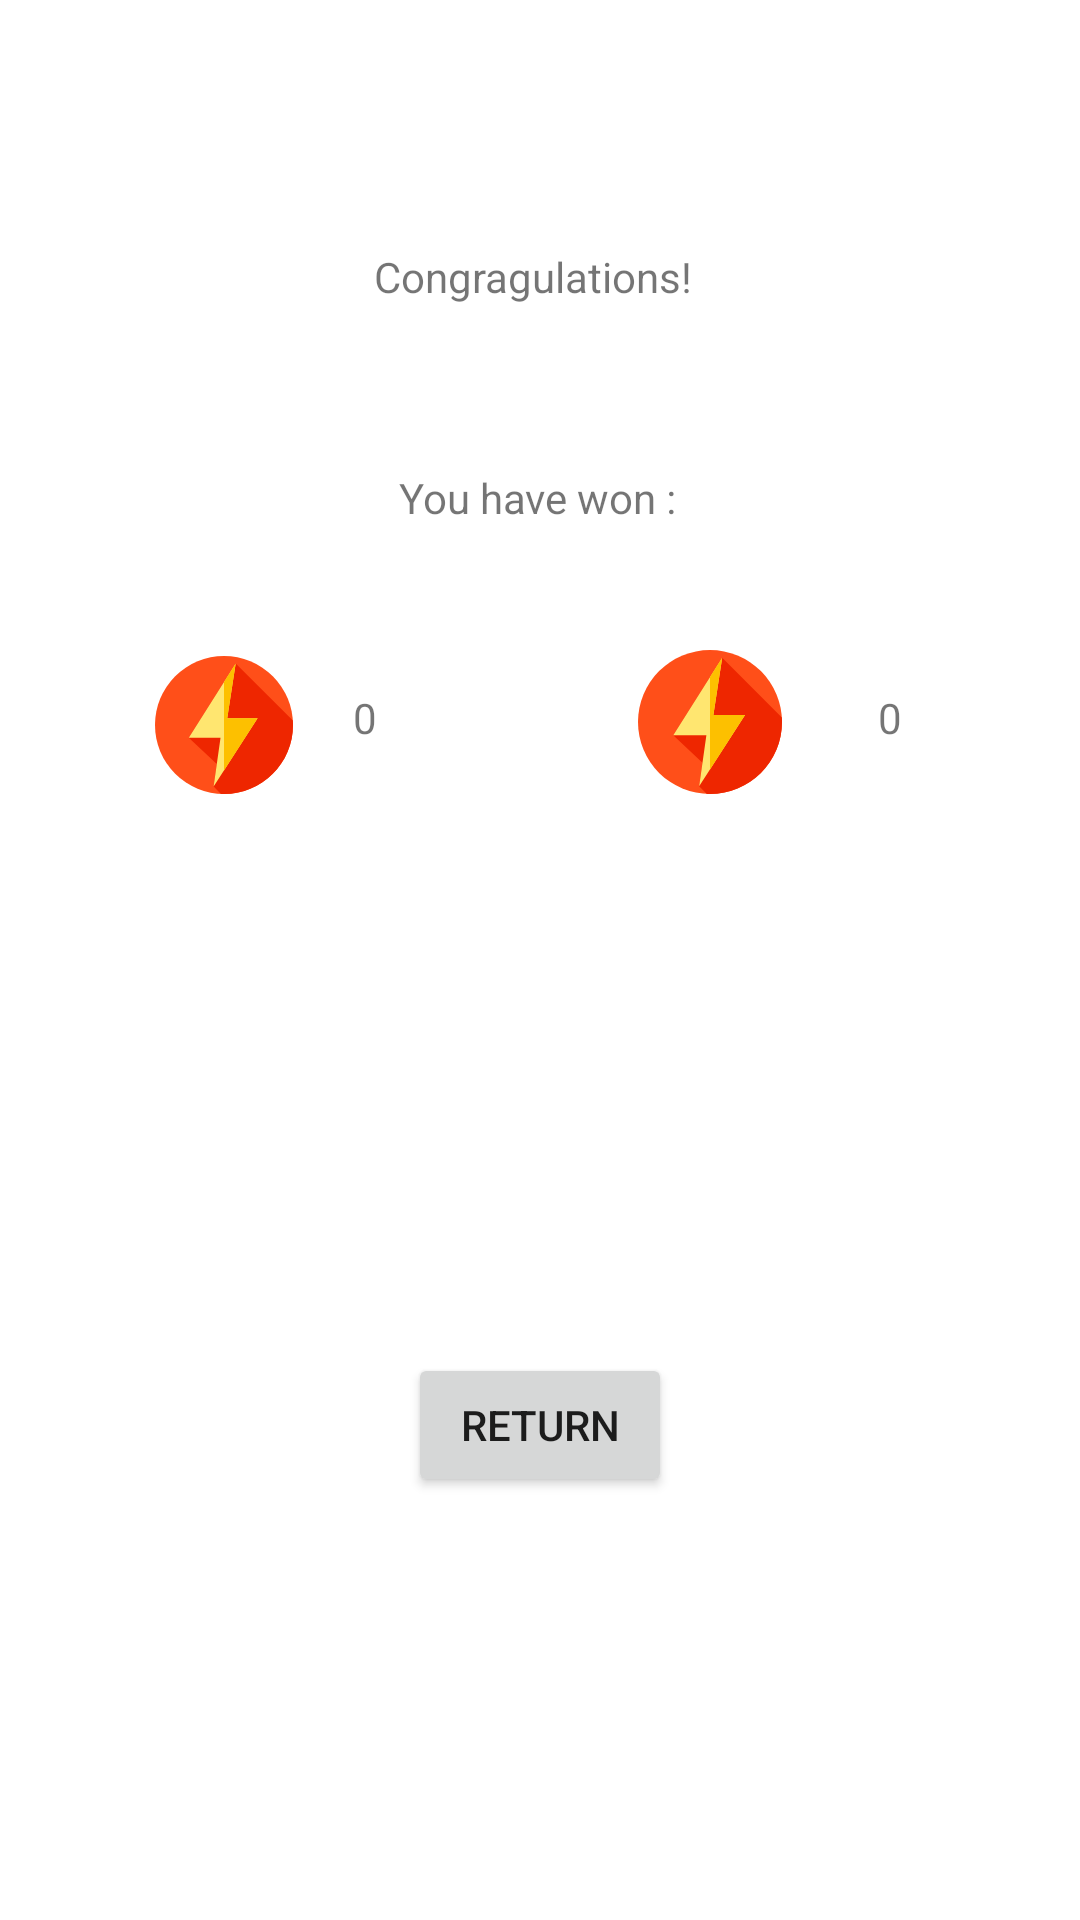

Named icons in this screenshot (1080 x 1920) and their centers, point (x, y):
lighting: point (710, 722), point (224, 725)
